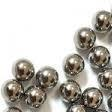ironball: (69, 28, 98, 55), (0, 79, 25, 105), (21, 84, 47, 108), (10, 58, 37, 80), (37, 64, 59, 89), (61, 55, 86, 76), (60, 81, 85, 102), (88, 43, 107, 67), (84, 87, 102, 108), (93, 11, 111, 30), (99, 68, 111, 90), (65, 103, 87, 111), (0, 106, 24, 111), (106, 87, 111, 111)
